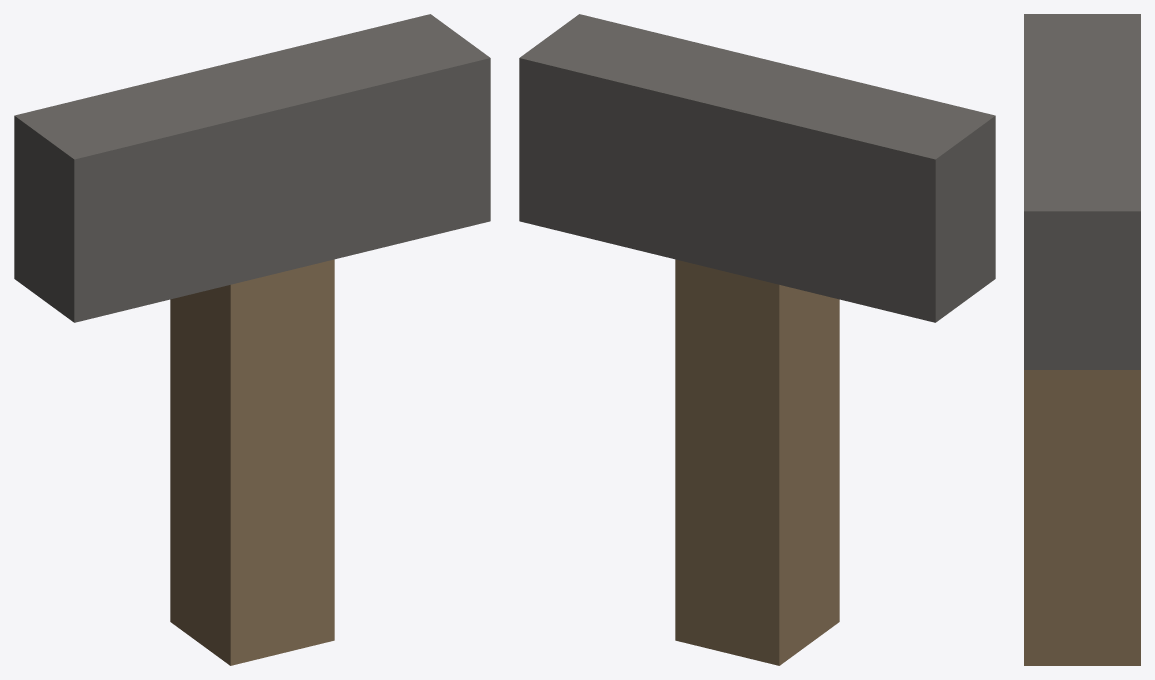
The model's file is martillo_avellano_01.glb.
3 views of the same model, side by side, from view 1: azimuth 30°, elevation 25°; view 2: azimuth 150°, elevation 25°; view 3: azimuth 270°, elevation 25° (orthographic). The views are drawn at different scales.
Visible parts, largest first — view 1: martillo_avellano; view 2: martillo_avellano; view 3: martillo_avellano.
Boxes of the visible parts, left/top/right/bottom form: martillo_avellano: left=14, top=14, right=490, bottom=665; martillo_avellano: left=519, top=14, right=995, bottom=665; martillo_avellano: left=1024, top=14, right=1140, bottom=665.
Bounding box in the file's own units: 0.6154 × 0.7692 × 0.1538.
